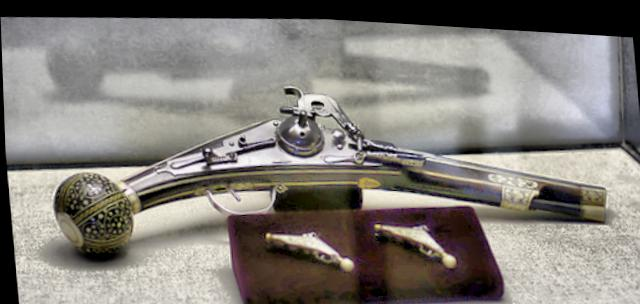pistol: (45, 49, 612, 287)
